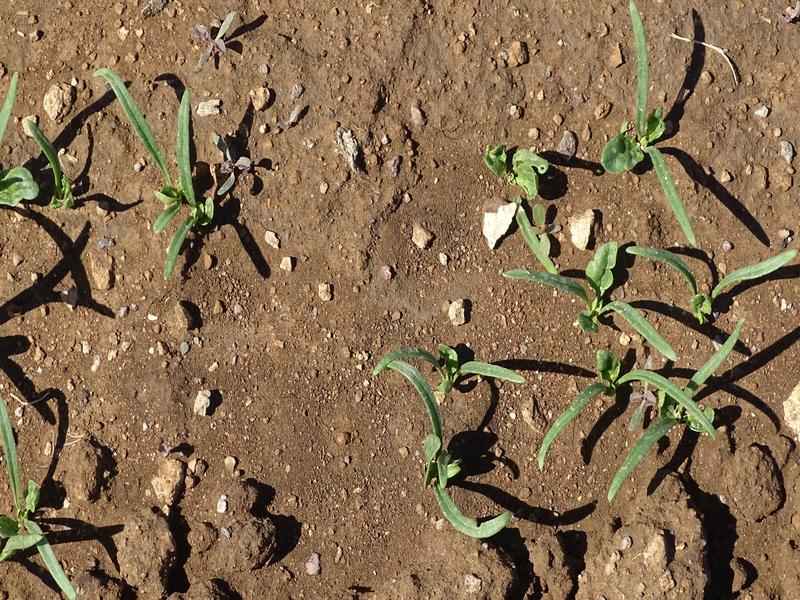Espinaca: (488, 18, 780, 344), (385, 333, 527, 539), (98, 70, 215, 280), (557, 347, 726, 490), (1, 382, 71, 596), (1, 69, 67, 195)
